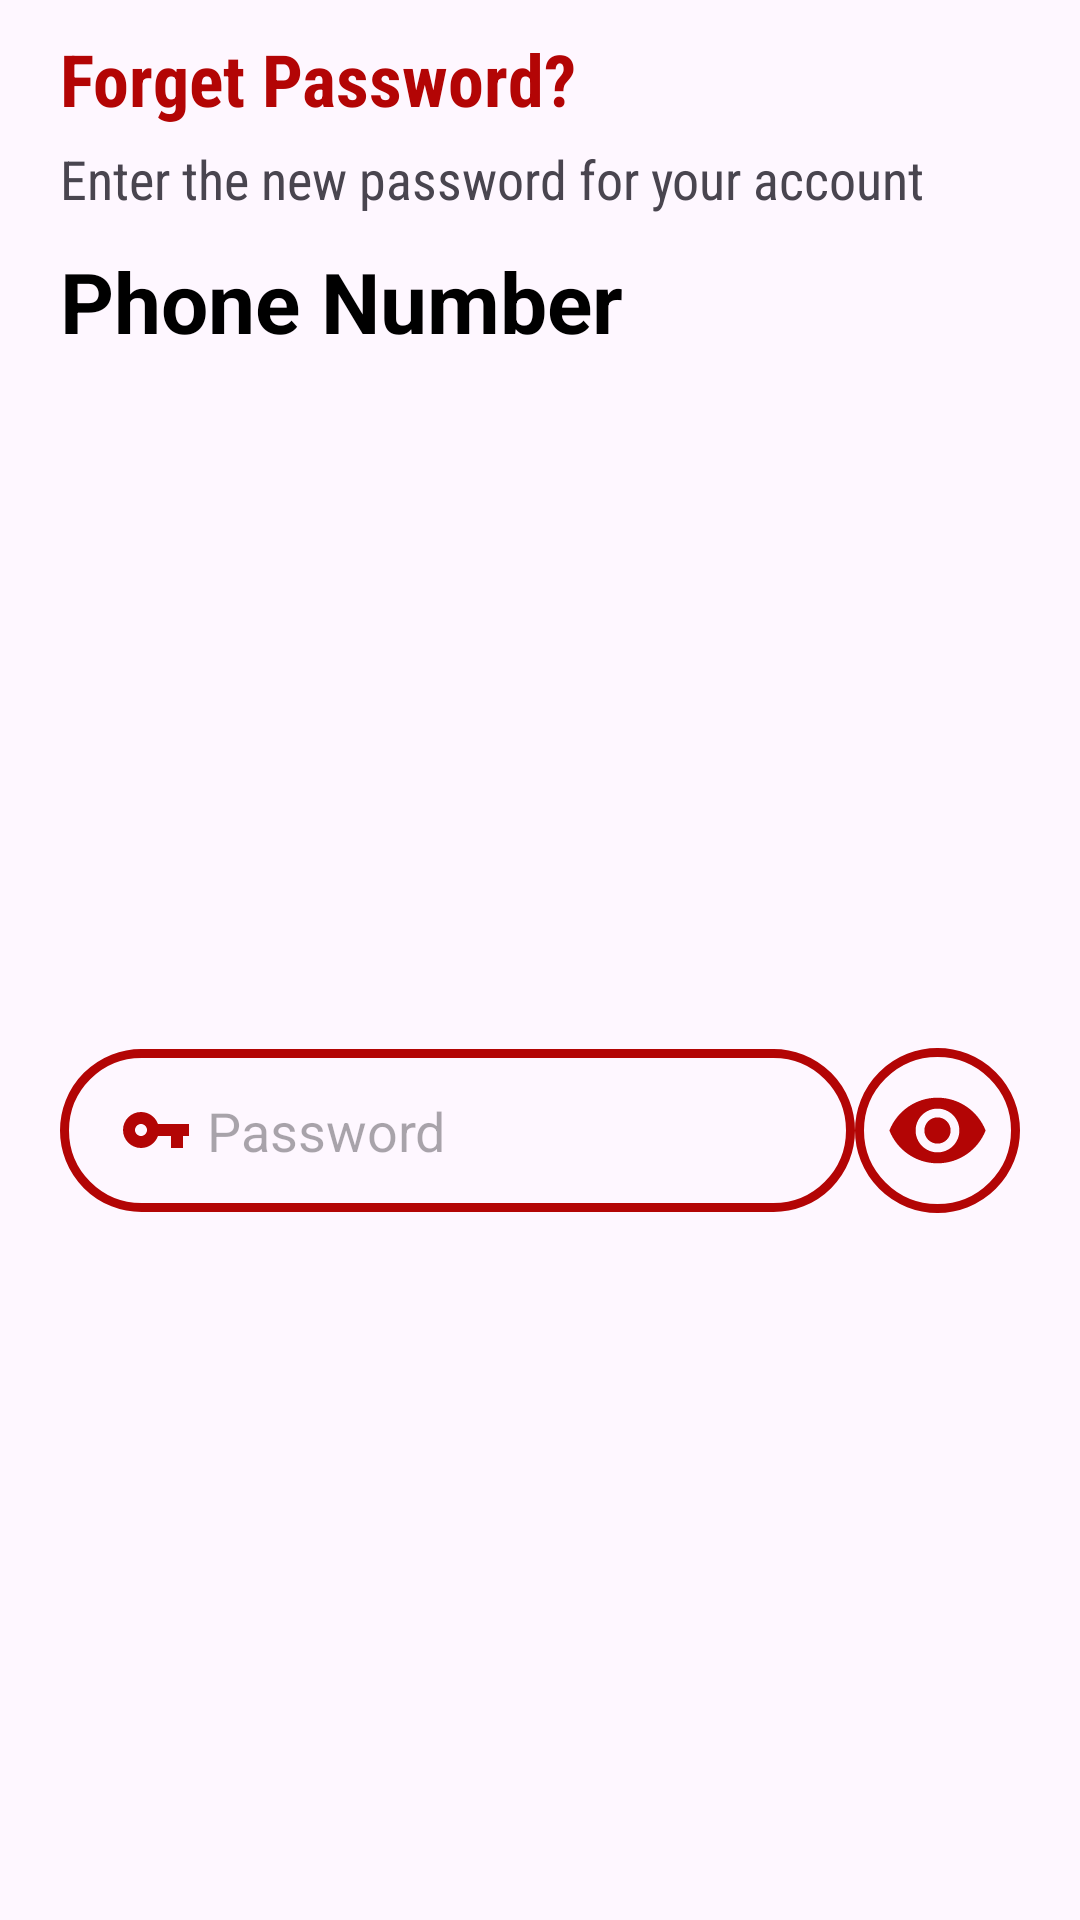

Where icons sit on this 1080×1920 app screen, as (x1, y1, x2, y2):
visible: (855, 1048, 1020, 1213)
